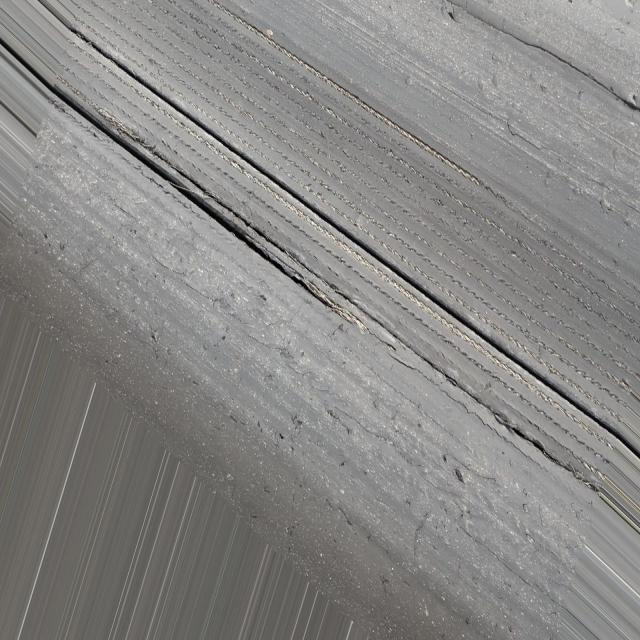Tear: (93, 102, 602, 494), (109, 50, 611, 440), (55, 87, 357, 330)
Wear: (123, 11, 636, 402)
